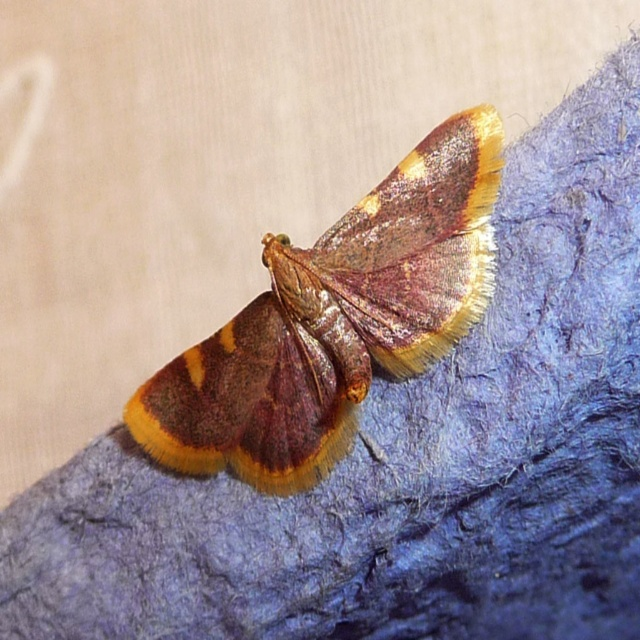Butterfly: (111, 122, 511, 485)
